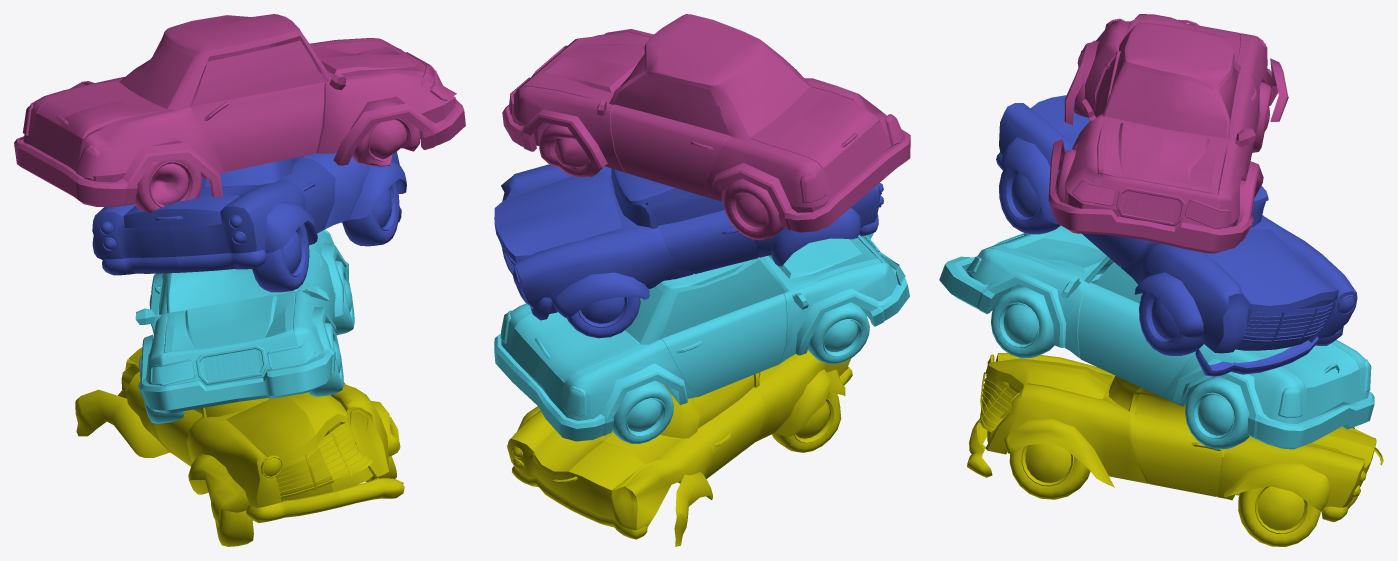
File: Car_Pile_Medium_Big.fbx
3 views of the same model, side by side, from view 1: azimuth 30°, elevation 25°; view 2: azimuth 150°, elevation 25°; view 3: azimuth 270°, elevation 25° (orthographic). The views are drawn at different scales.
Parts seen in each view (by area): view 1: pasted__pPlane27; view 2: pasted__pPlane27; view 3: pasted__pPlane27.
Part boxes in pixels (x1,y1,x2,y2): pasted__pPlane27: (14, 14, 465, 546); pasted__pPlane27: (494, 14, 910, 546); pasted__pPlane27: (939, 14, 1383, 546).
Size of the model in its own units: 9.15 by 10.72 by 9.51.
